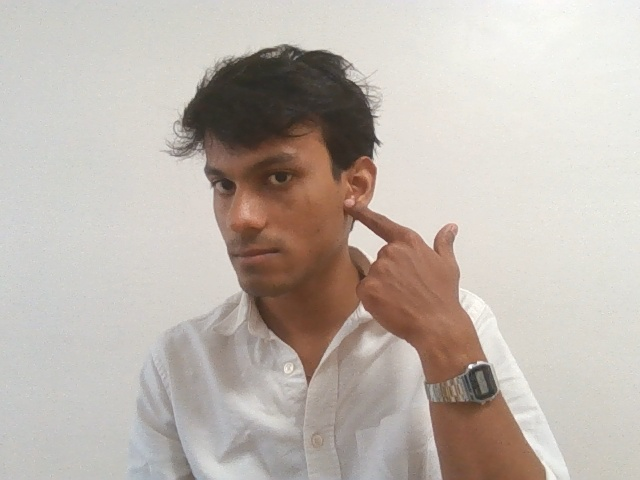Deaf: (343, 192, 472, 353)
